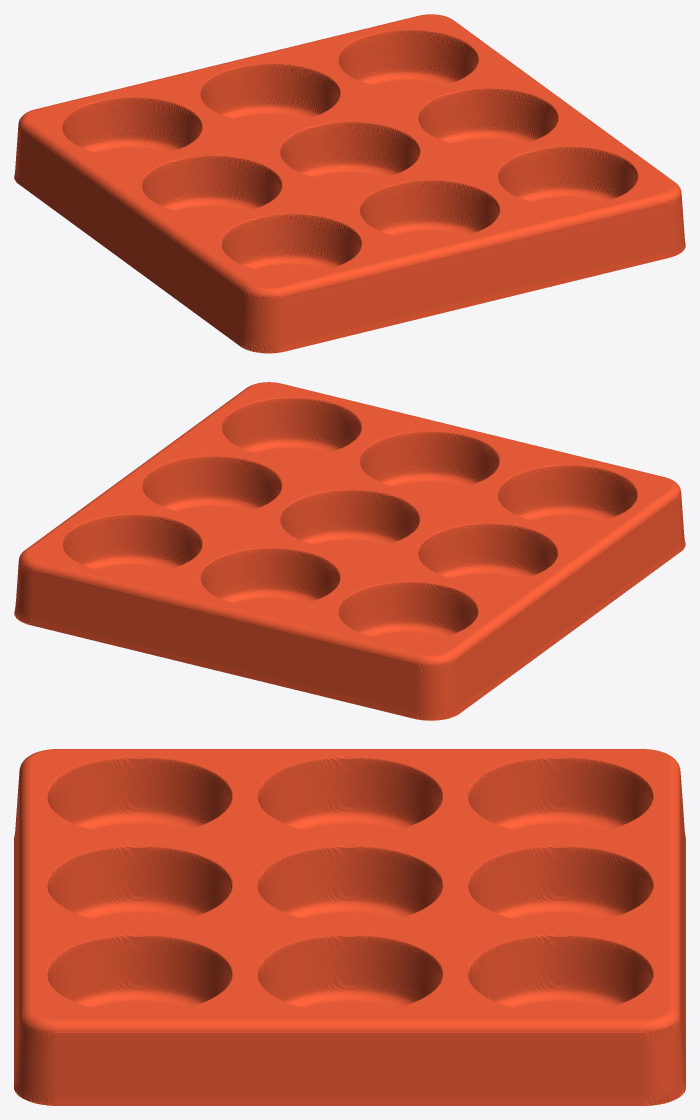
The model's file is mold.glb.
The picture shows the model from 3 angles, top to bottom: view 1: azimuth 30°, elevation 25°; view 2: azimuth 150°, elevation 25°; view 3: azimuth 270°, elevation 25°; orthographic projection. The views are drawn at different scales.
Visible parts, largest first — view 1: geometry_0; view 2: geometry_0; view 3: geometry_0.
Part boxes in pixels (x1,y1,x2,y2): geometry_0: (14,14,685,353); geometry_0: (14,382,685,720); geometry_0: (14,749,685,1105).
Bounding box in the file's own units: 0.1402 × 0.0182 × 0.1402.
